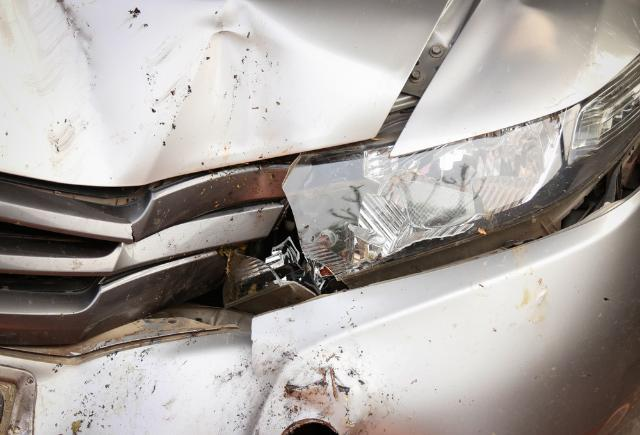crack: (249, 317, 256, 375), (131, 222, 137, 242)
dent: (149, 0, 304, 180)
lamp broken: (290, 53, 640, 286)
